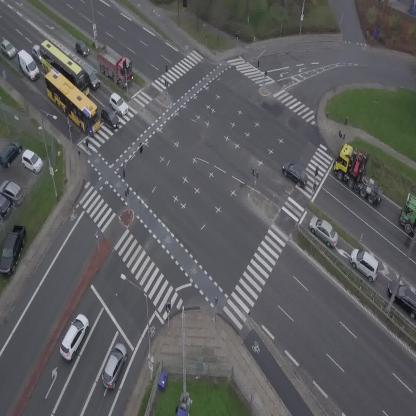bicycle: (83, 137, 91, 151)
bus: (35, 67, 109, 137), (30, 38, 98, 100)
car: (55, 311, 93, 362), (98, 340, 132, 391), (344, 244, 386, 283), (304, 212, 344, 249), (277, 157, 314, 190), (97, 104, 123, 131), (105, 91, 131, 117), (80, 61, 102, 90), (71, 37, 92, 59), (0, 38, 18, 60), (31, 44, 40, 63), (65, 50, 74, 59)
lorry: (325, 139, 401, 208), (88, 39, 142, 90), (11, 47, 44, 84), (400, 194, 416, 235)
